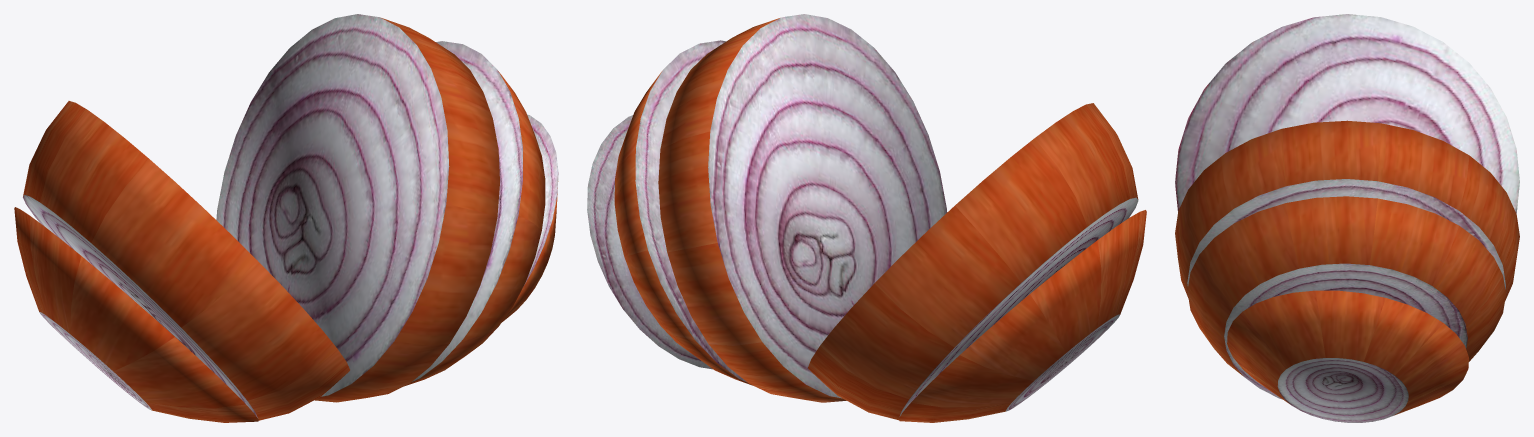
The model's file is Cebolla cortada.fbx.
3 views of the same model, side by side, from view 1: azimuth 30°, elevation 25°; view 2: azimuth 150°, elevation 25°; view 3: azimuth 270°, elevation 25° (orthographic). The views are drawn at different scales.
Parts seen in each view (by area): view 1: Cebolla; view 2: Cebolla; view 3: Cebolla.
Part boxes in pixels (box(x1,y1,x2,y2)): Cebolla: box(14, 14, 558, 422); Cebolla: box(587, 14, 1146, 422); Cebolla: box(1175, 14, 1519, 422).
Bounding box in the file's own units: 37.15 × 24.2 × 25.25.
Materials: 2 (2 with a texture image).
